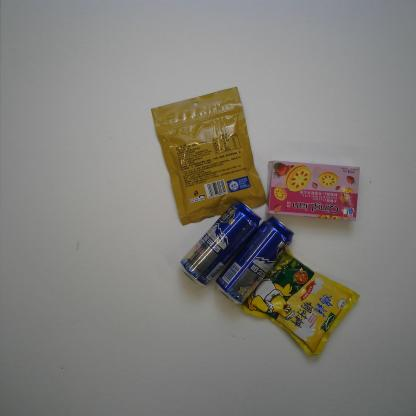Alcohol: (214, 212, 296, 308), (179, 199, 263, 289)
Dessert: (262, 159, 362, 222)
Dried Fruit: (150, 84, 267, 228)
Seasoner: (239, 246, 361, 358)
